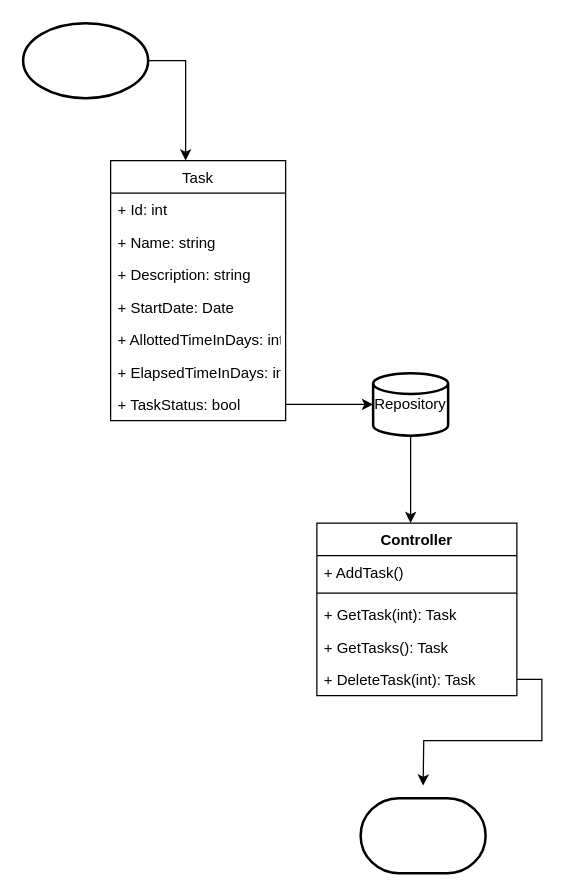
Some shapes in this 574 by 895 pixel diagram are drawn without their labels. The shapes that lost their labels are listed below. From the top down, each one's centre as x and y in pixels, then its label:
At (x=85, y=60): "Start".
At (x=422, y=835): "End".
